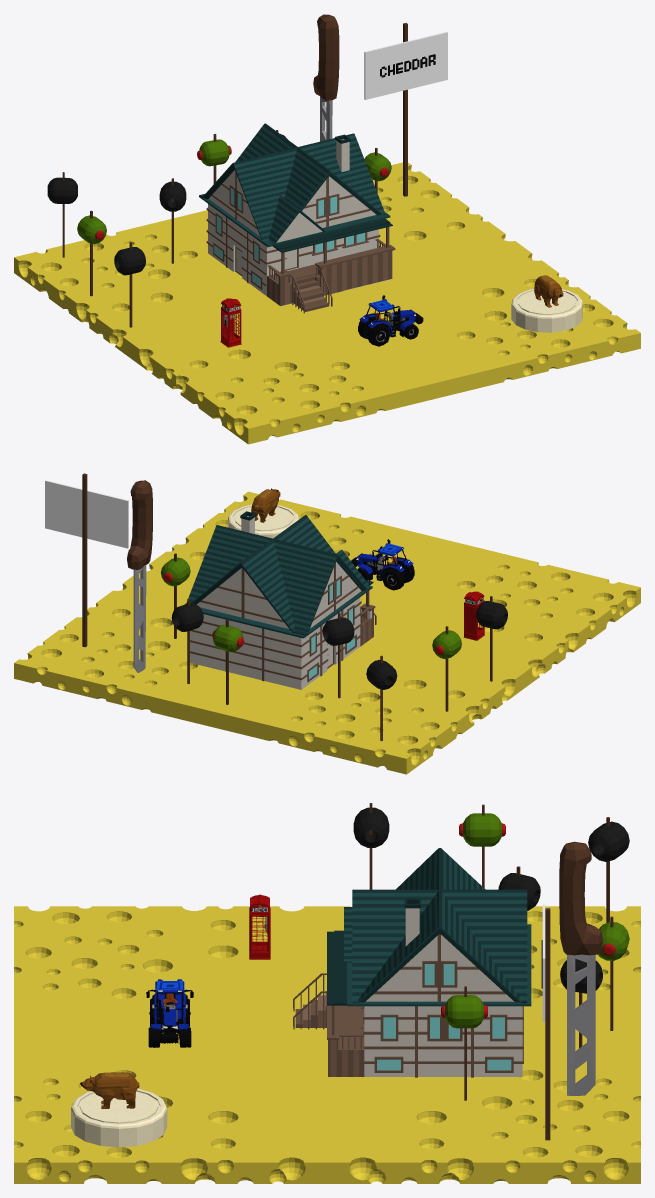
The picture shows the model from 3 angles, top to bottom: view 1: azimuth 30°, elevation 25°; view 2: azimuth 150°, elevation 25°; view 3: azimuth 270°, elevation 25°; orthographic projection. The views are drawn at different scales.
Parts seen in each view (by area): view 1: Cube.022, Cube.793, Cube.023, Cylinder.016, Cube.024, VEHICLES_TRACTOR, Sphere.017, OBJRANDOM_PHONEBOOTH, Sphere.016, Sphere.020, Sphere.018, Sphere.022 (+2 smaller); view 2: Cube.022, Cube.793, Cube.023, Cube.024, VEHICLES_TRACTOR, Cylinder.016, Sphere.017, Sphere.020, Sphere.021, Sphere.016, Sphere.018, Sphere.022 (+3 smaller); view 3: Cube.022, Cube.793, Cube.024, Cylinder.016, VEHICLES_TRACTOR, Cube.023, Sphere.019, Sphere.016, ANIMAL_OSO, Sphere.018, Sphere.017, OBJRANDOM_PHONEBOOTH (+3 smaller).
Boxes of the visible parts, x1,y1,x2,y2 form: Cube.022: (14, 162, 640, 444); Cube.793: (199, 123, 395, 313); Cube.023: (364, 23, 447, 196); Cylinder.016: (511, 288, 582, 332); Cube.024: (313, 14, 339, 141); VEHICLES_TRACTOR: (358, 295, 423, 346); Sphere.017: (114, 242, 145, 327); OBJRANDOM_PHONEBOOTH: (220, 298, 241, 347); Sphere.016: (47, 172, 77, 257); Sphere.020: (159, 178, 186, 263); Sphere.018: (77, 210, 106, 296); Sphere.022: (197, 134, 231, 183); Cube.022: (14, 491, 640, 774); Cube.793: (184, 511, 376, 689); Cube.023: (45, 473, 128, 647); Cube.024: (127, 480, 152, 672); VEHICLES_TRACTOR: (351, 539, 414, 590); Cylinder.016: (228, 504, 298, 538); Sphere.017: (476, 596, 507, 681); Sphere.020: (322, 612, 354, 698); Sphere.021: (171, 598, 203, 683); Sphere.016: (366, 655, 397, 741); Sphere.018: (432, 626, 461, 711); Sphere.022: (212, 619, 244, 704); Cube.022: (14, 906, 640, 1183); Cube.793: (293, 848, 531, 1077); Cube.024: (559, 841, 602, 1095); Cylinder.016: (71, 1088, 167, 1147); VEHICLES_TRACTOR: (146, 979, 193, 1047); Cube.023: (541, 904, 550, 1140); Sphere.019: (441, 986, 487, 1100); Sphere.016: (588, 817, 629, 922); ANIMAL_OSO: (80, 1072, 139, 1108); Sphere.018: (459, 804, 505, 888); Sphere.017: (353, 803, 389, 889); OBJRANDOM_PHONEBOOTH: (249, 894, 270, 959).
Bounding box in the file's own units: 3917 × 2007 × 4000.
Materials: 40 (4 with a texture image).
